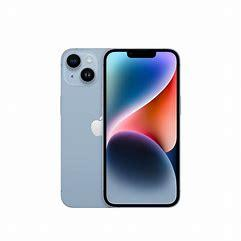-iphone13: (20, 27, 218, 223)
